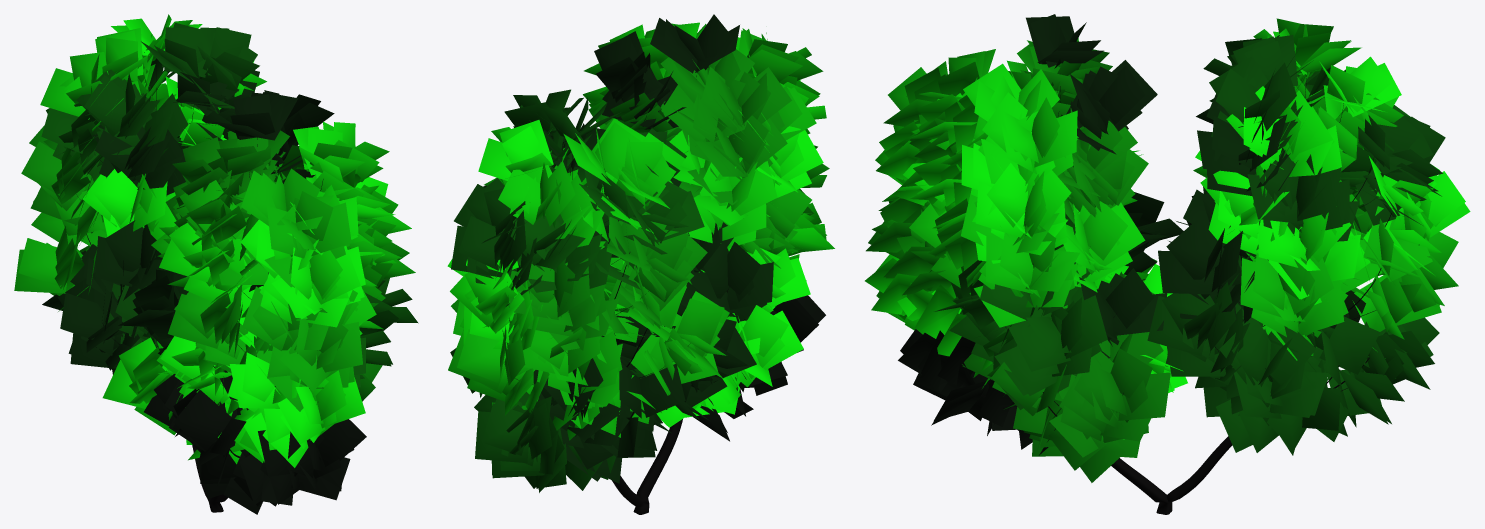
The model's file is Maple_16.fbx.
3 renders of one model, left to right at view 1: azimuth 30°, elevation 25°; view 2: azimuth 150°, elevation 25°; view 3: azimuth 270°, elevation 25°, orthographic. The views are drawn at different scales.
Parts seen in each view (by area): view 1: Maple_16; view 2: Maple_16; view 3: Maple_16.
Part boxes in pixels (x1=…): Maple_16: x1=14, y1=14, x2=418, y2=514; Maple_16: x1=447, y1=14, x2=834, y2=514; Maple_16: x1=865, y1=14, x2=1470, y2=514.
Bounding box in the file's own units: 599 × 897 × 1020.
